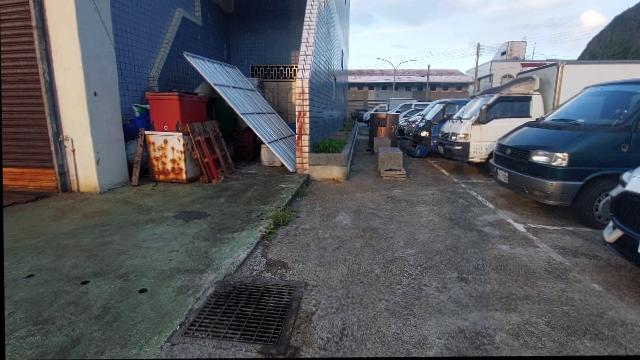pollute: (177, 120, 236, 183), (144, 133, 200, 184), (144, 94, 207, 132), (232, 124, 256, 161), (124, 105, 149, 140), (130, 130, 144, 186), (258, 145, 284, 167), (124, 141, 136, 163)
